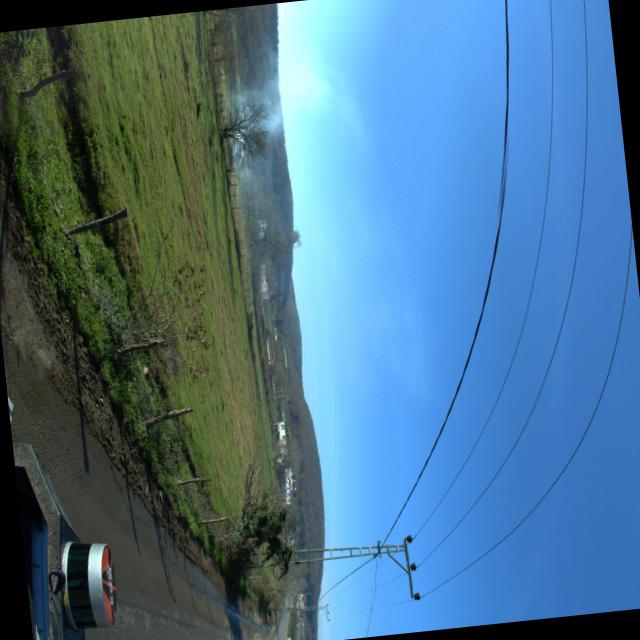Utility Pole Information Plate: (294, 562, 298, 564)
